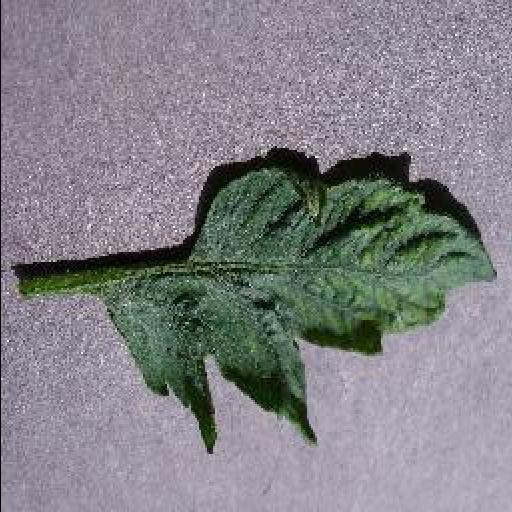Mosaic Virus: (92, 156, 500, 454)
